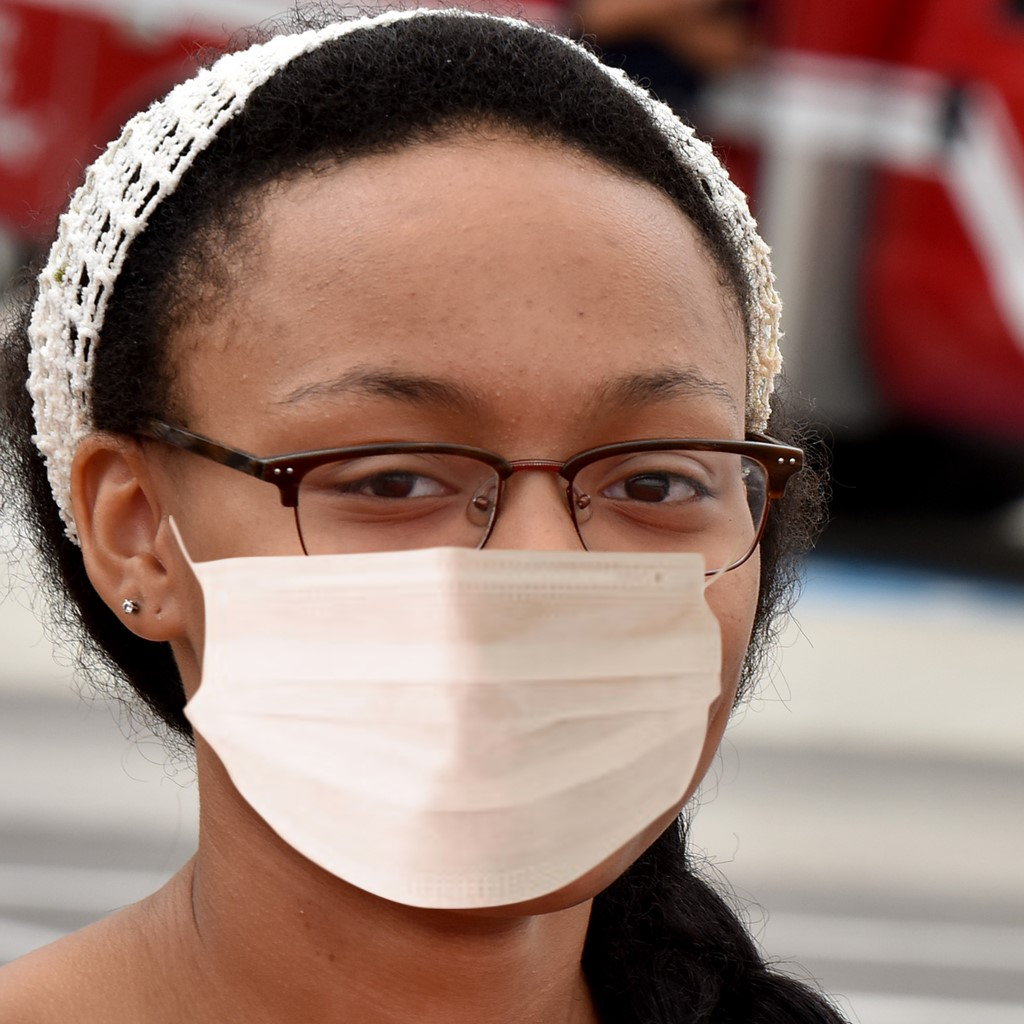con_mascara: (128, 111, 776, 896)
